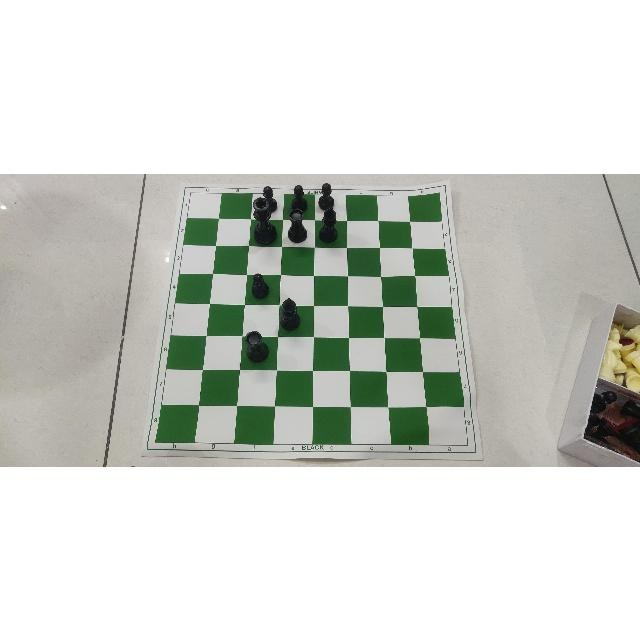black-bishop: (315, 204, 340, 248), (278, 295, 303, 335)
black-king: (250, 196, 280, 248)
black-pawn: (250, 270, 272, 299), (316, 181, 337, 211), (259, 184, 280, 214), (290, 183, 309, 215)
black-rook: (285, 206, 310, 246), (244, 329, 270, 365)
